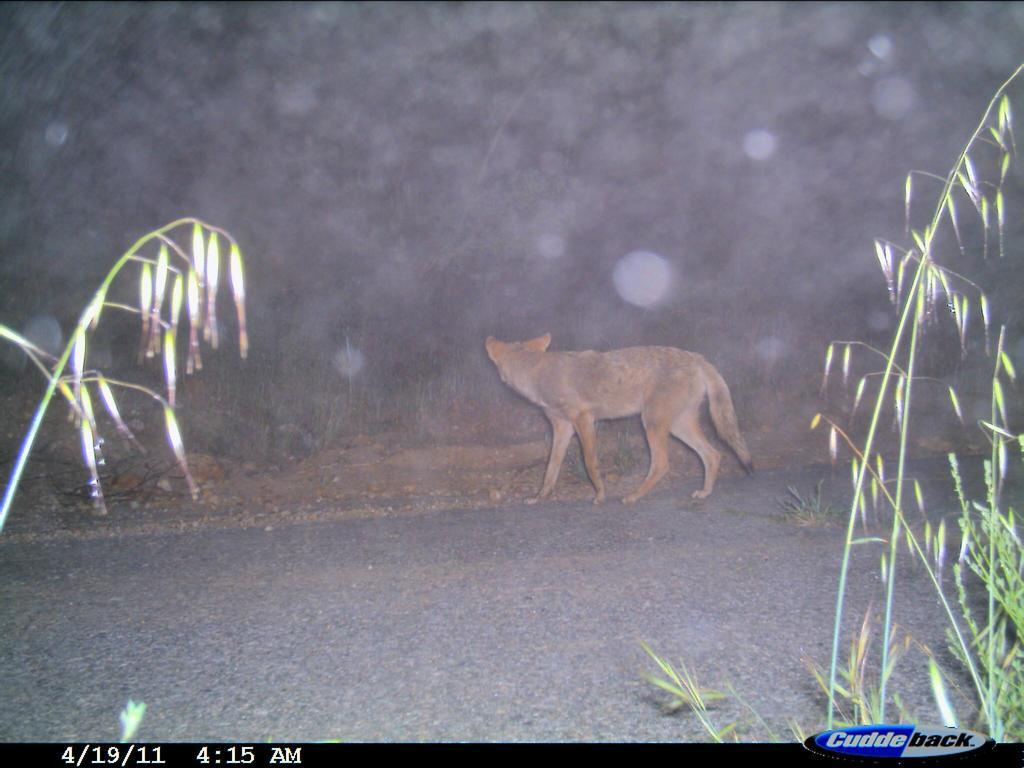coyote: (474, 324, 762, 510)
